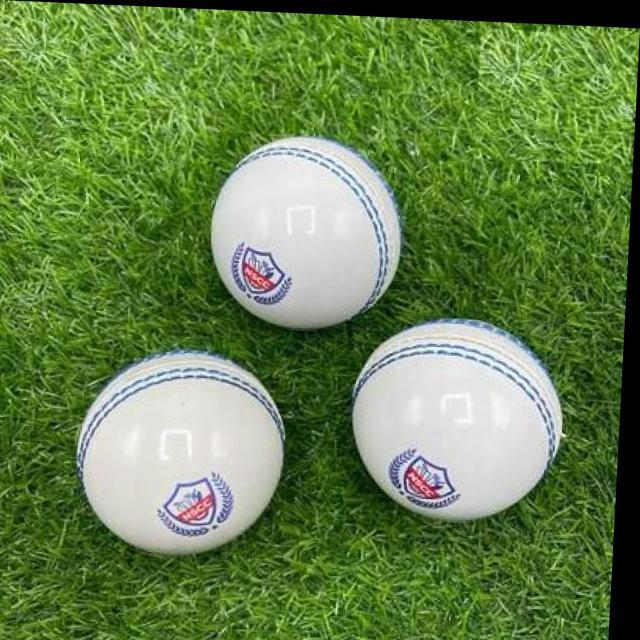cricket ball: (80, 348, 291, 553), (355, 315, 568, 517), (213, 133, 405, 327)
